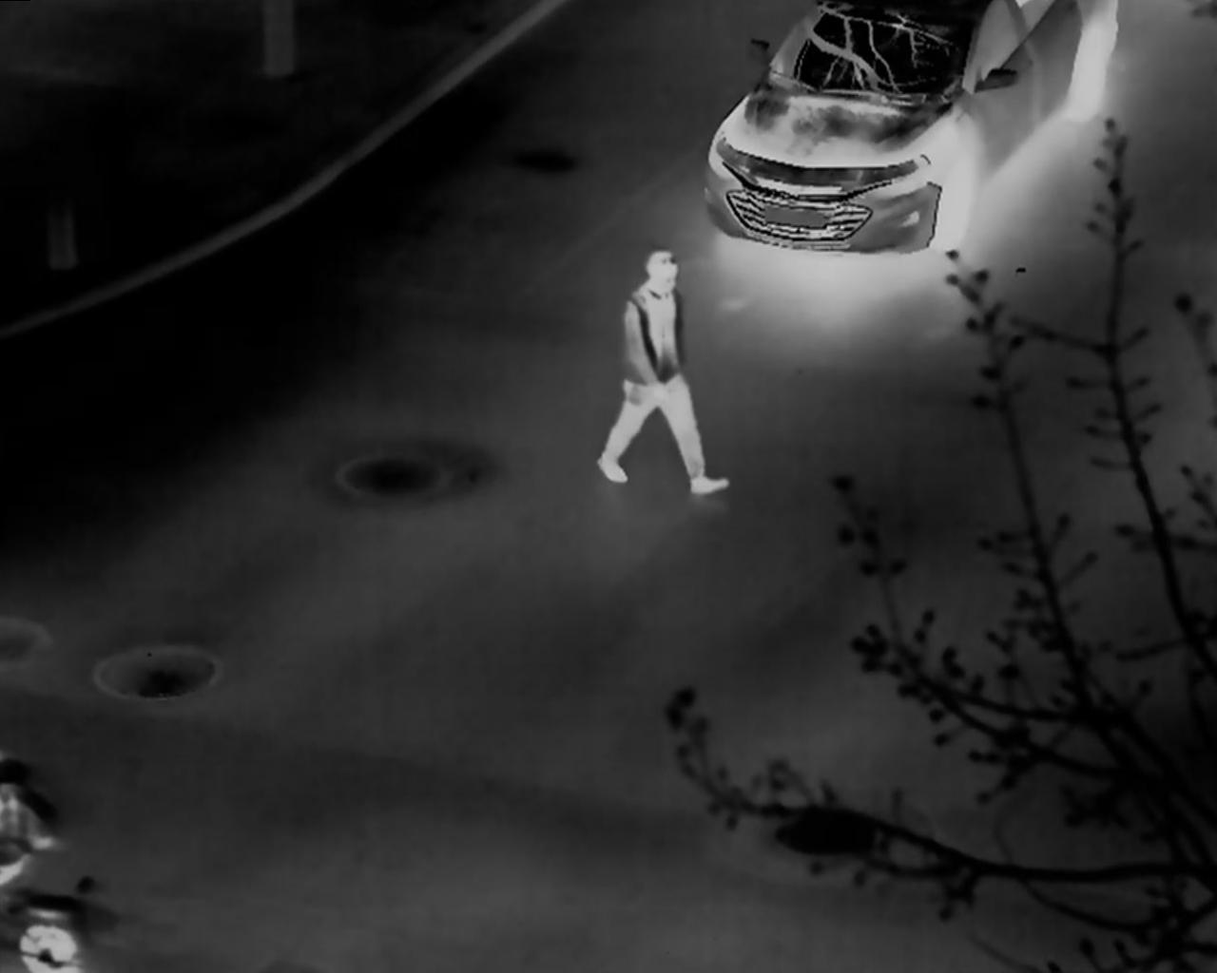person: (597, 249, 729, 496)
